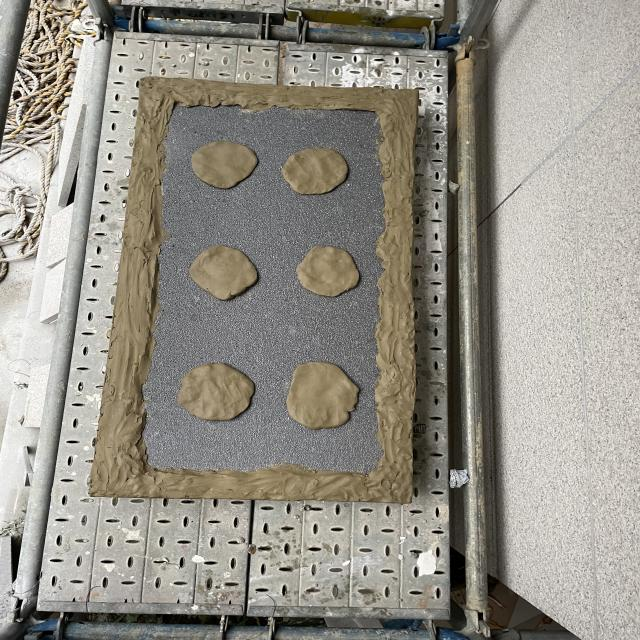dab: (286, 362, 359, 430), (177, 363, 254, 421), (190, 245, 258, 300), (296, 246, 360, 297), (281, 147, 348, 195), (191, 141, 257, 189)
insulation: (89, 76, 419, 503)
